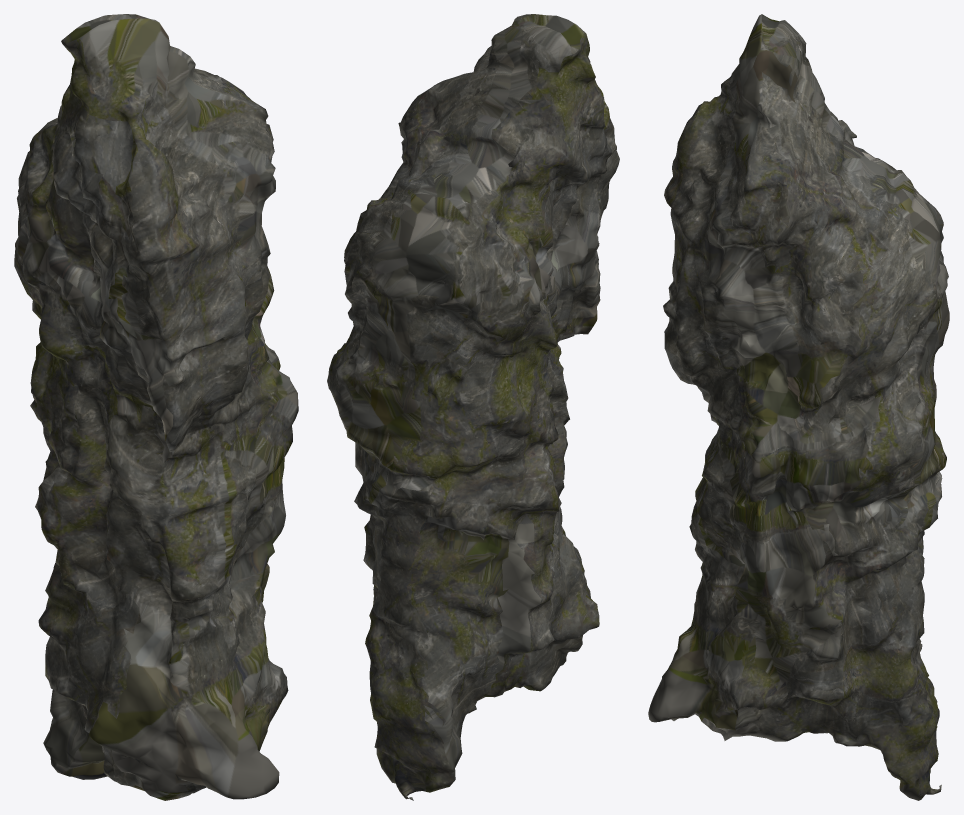
File: SM_RockWall_D.fbx
3 renders of one model, left to right at view 1: azimuth 30°, elevation 25°; view 2: azimuth 150°, elevation 25°; view 3: azimuth 270°, elevation 25°, orthographic. The views are drawn at different scales.
Parts seen in each view (by area): view 1: SM_RockWall_D_LOD0; view 2: SM_RockWall_D_LOD0; view 3: SM_RockWall_D_LOD0.
Part boxes in pixels (box(x1,y1,x2,y2)): SM_RockWall_D_LOD0: box(14, 14, 298, 800); SM_RockWall_D_LOD0: box(327, 14, 619, 800); SM_RockWall_D_LOD0: box(648, 14, 949, 800).
Bounding box in the file's own units: 1080 × 1300 × 3527.
